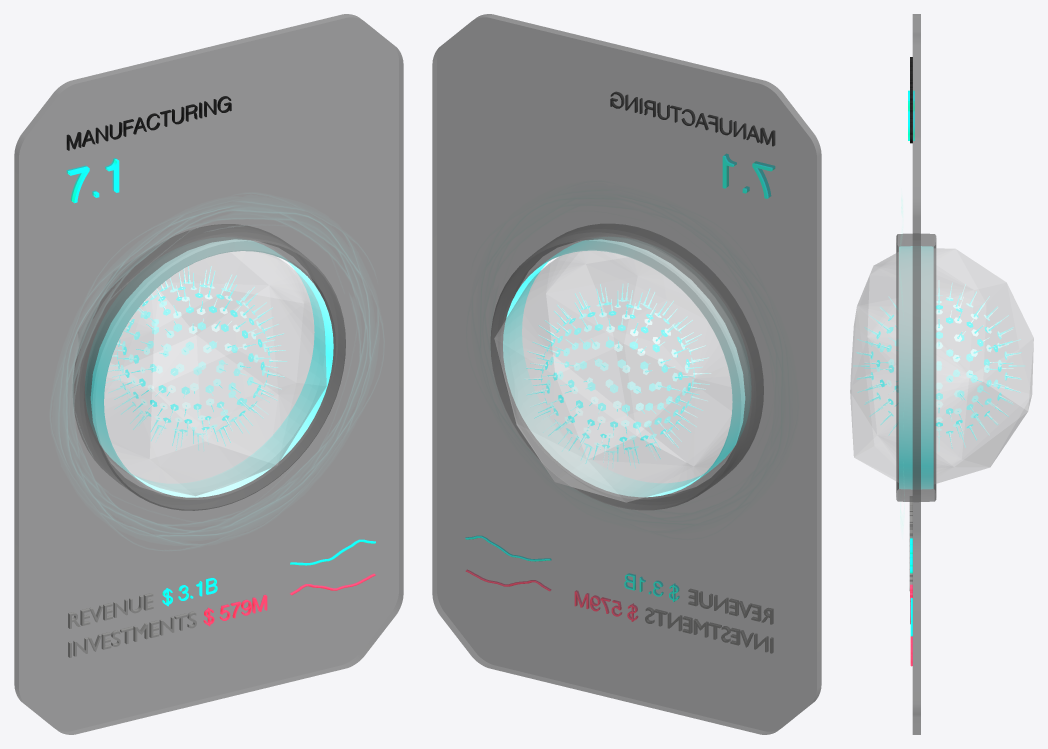
The picture shows the model from 3 angles, left to right: view 1: azimuth 30°, elevation 25°; view 2: azimuth 150°, elevation 25°; view 3: azimuth 270°, elevation 25°; orthographic projection. The views are drawn at different scales.
Visible parts, largest first — view 1: baseGreen.005, Glass.006, Corner.005, neon-corner.006, baseCorner.005, neon-sphereBase.005, Text.038, Text.036, neon-sphere.007, neon-rimGreen.005, Text.035, Text.037 (+1 smaller); view 2: baseGreen.005, Glass.006, Corner.005, neon-corner.006, baseCorner.005, neon-sphere.007, Text.038, Text.036, Text.035, Text.037; view 3: Glass.006, Corner.005, neon-corner.006, baseCorner.005, neon-sphere.007, neon-sphereBase.005.
Boxes of the visible parts, left/top/right/bottom form: baseGreen.005: left=14, top=14, right=403, bottom=734; Glass.006: left=104, top=251, right=326, bottom=495; Corner.005: left=74, top=224, right=345, bottom=510; neon-corner.006: left=85, top=237, right=333, bottom=497; baseCorner.005: left=14, top=14, right=403, bottom=734; neon-sphereBase.005: left=117, top=282, right=270, bottom=434; Text.038: left=66, top=96, right=231, bottom=150; Text.036: left=68, top=611, right=196, bottom=657; neon-sphere.007: left=112, top=266, right=278, bottom=449; neon-rimGreen.005: left=66, top=206, right=370, bottom=536; Text.035: left=68, top=593, right=153, bottom=628; Text.037: left=66, top=158, right=119, bottom=203; baseGreen.005: left=432, top=14, right=821, bottom=734; Glass.006: left=494, top=251, right=732, bottom=502; Corner.005: left=490, top=224, right=763, bottom=510; neon-corner.006: left=503, top=237, right=750, bottom=497; baseCorner.005: left=432, top=14, right=821, bottom=734; neon-sphere.007: left=524, top=283, right=711, bottom=469; Text.038: left=610, top=92, right=774, bottom=146; Text.036: left=645, top=607, right=773, bottom=653; Text.035: left=688, top=589, right=773, bottom=624; Text.037: left=722, top=154, right=774, bottom=198; Glass.006: left=850, top=248, right=1033, bottom=483; Corner.005: left=896, top=233, right=936, bottom=501; neon-corner.006: left=899, top=246, right=933, bottom=489; baseCorner.005: left=912, top=14, right=920, bottom=734; neon-sphere.007: left=853, top=280, right=1024, bottom=451; neon-sphereBase.005: left=870, top=295, right=1007, bottom=436.
Bounding box in the file's own units: 1.47 × 2.38 × 0.666.
8 materials, 1 textured.
